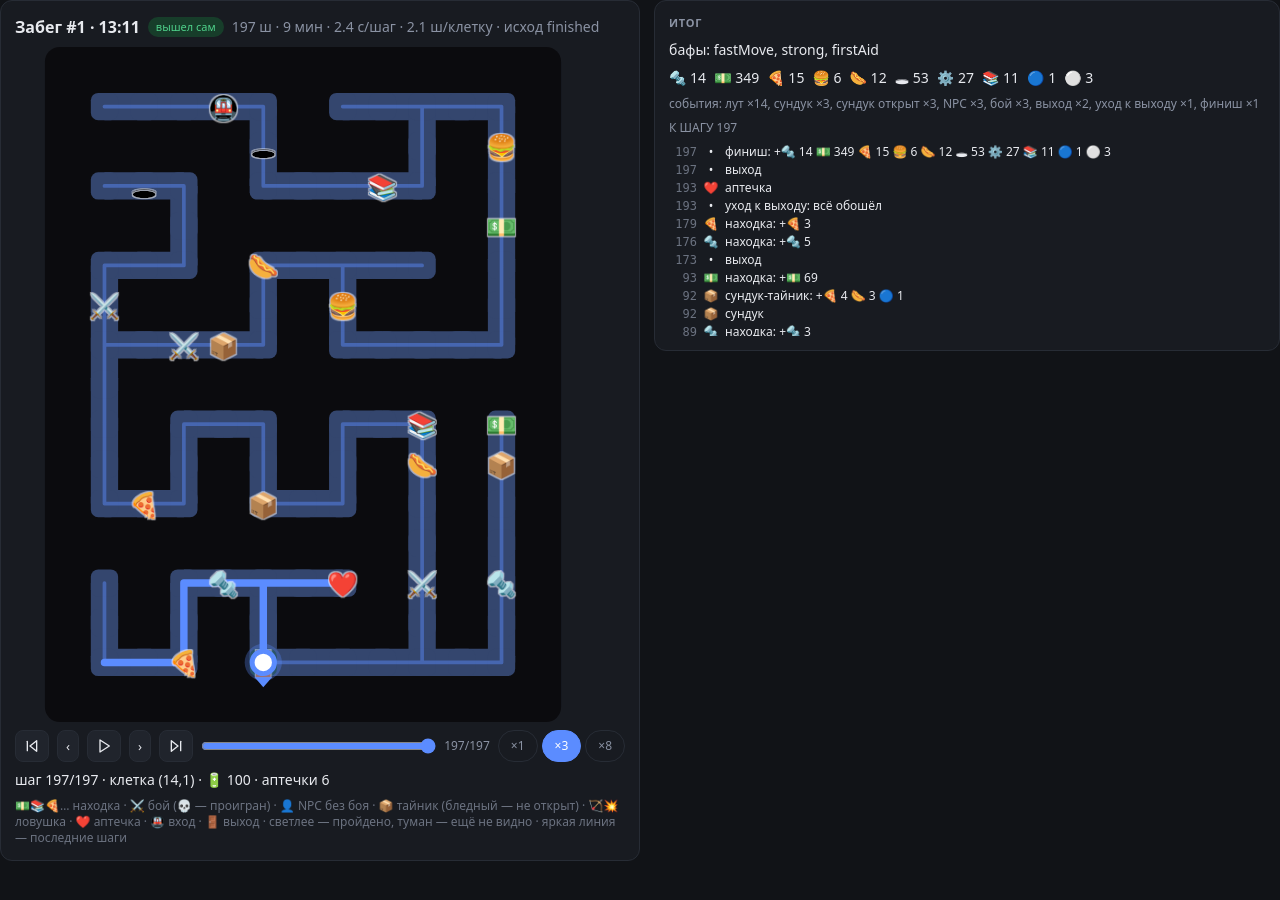
Test case: карта метро › значки — только случившееся: главное событие клетки, приглушённо — не открыт или без боя
The width and height of the screenshot is (1280, 900).
Set the slider named "Шаг" to "38" at (251, 746), box [201,738,436,754]
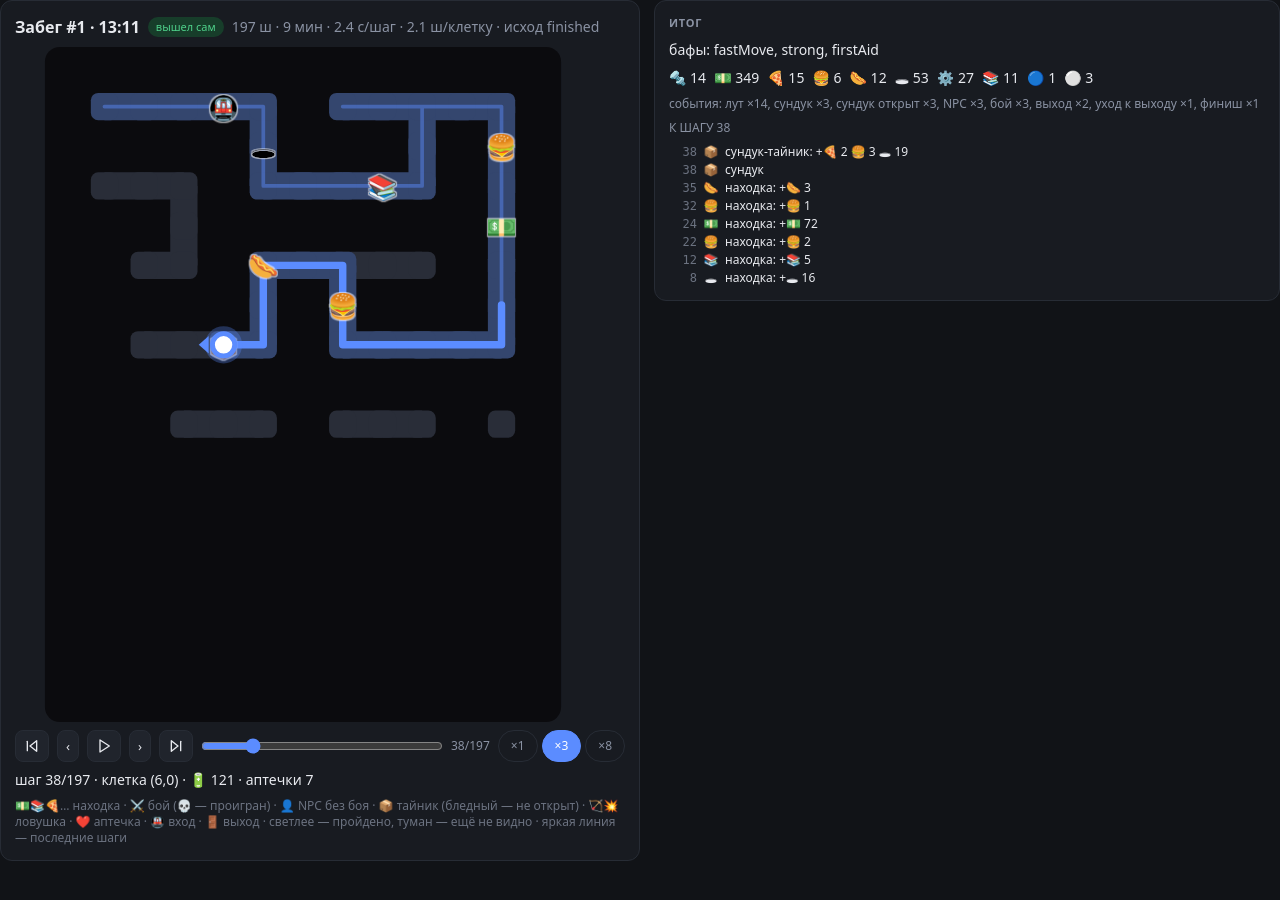
Set the slider named "Шаг" to "37" at (252, 746), box [201,738,443,754]
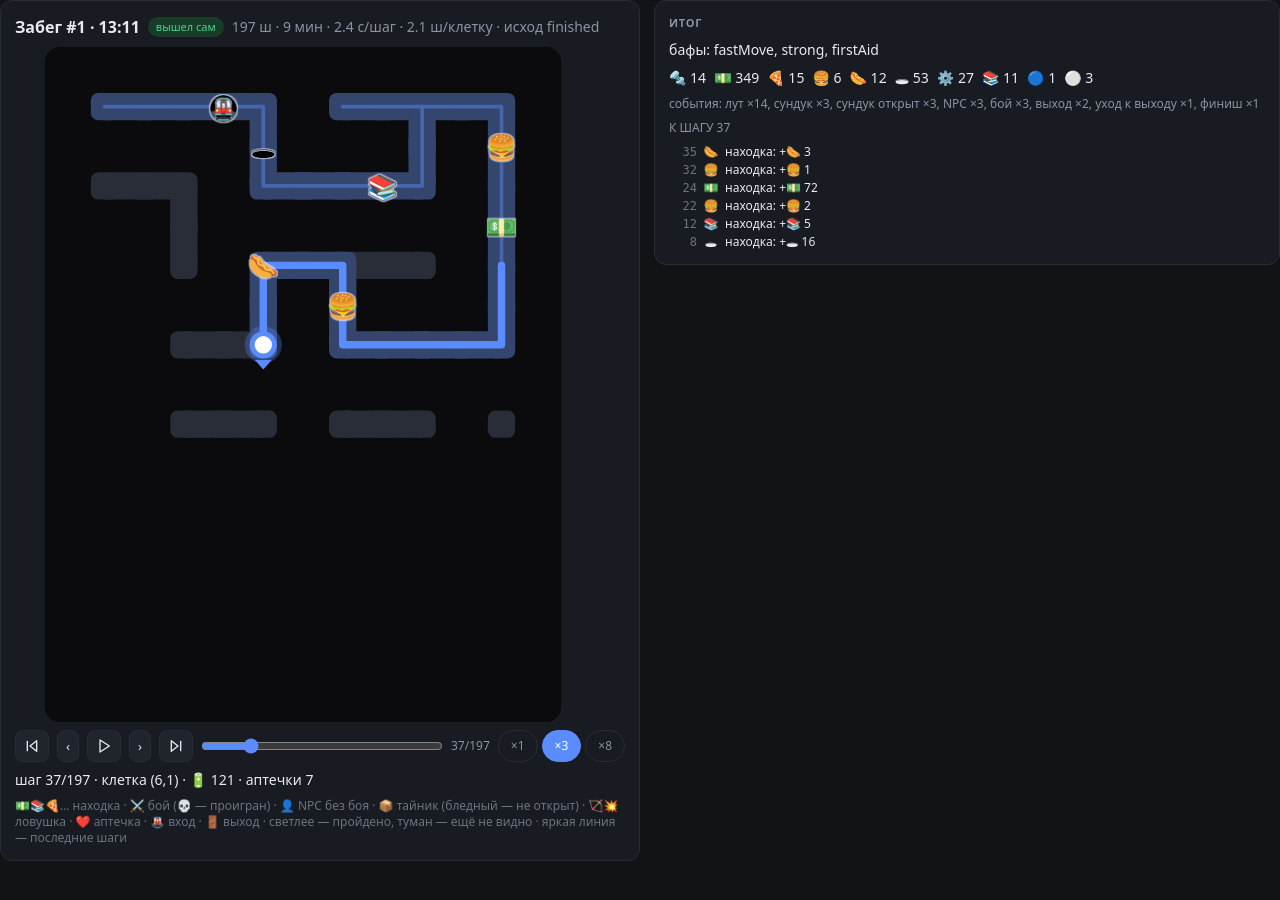
Check: the list item "35 🌭 находка: +🌭 3" is shown, box [682,144,811,160]
